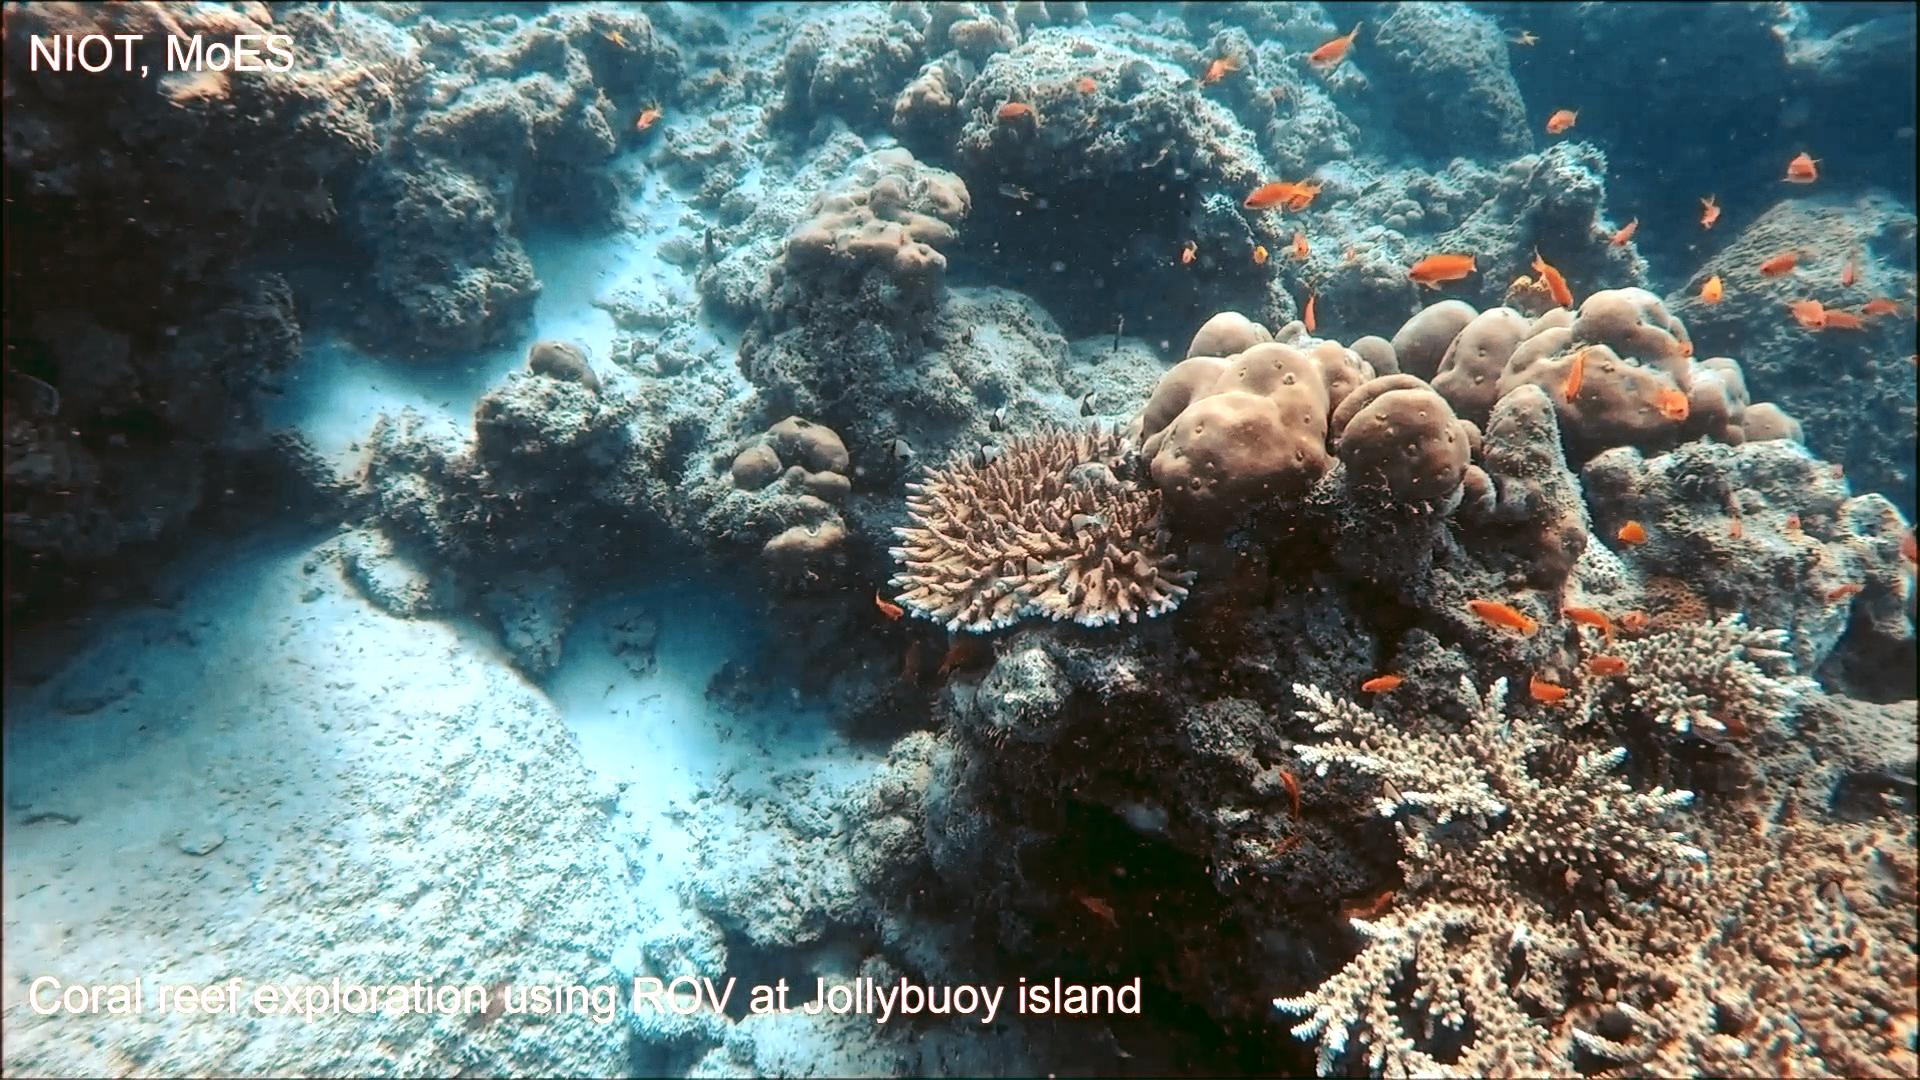Porites-Porites pukoensis: (1134, 297, 1476, 541), (1393, 278, 1805, 465)
